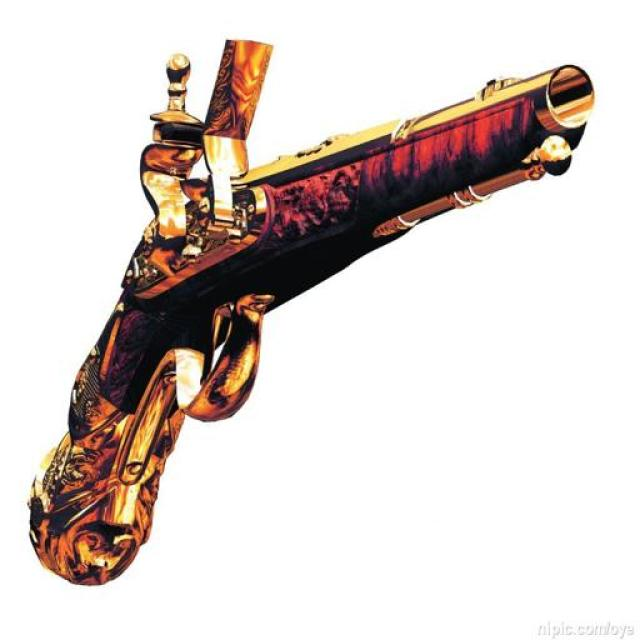pistol: (27, 33, 595, 581)
